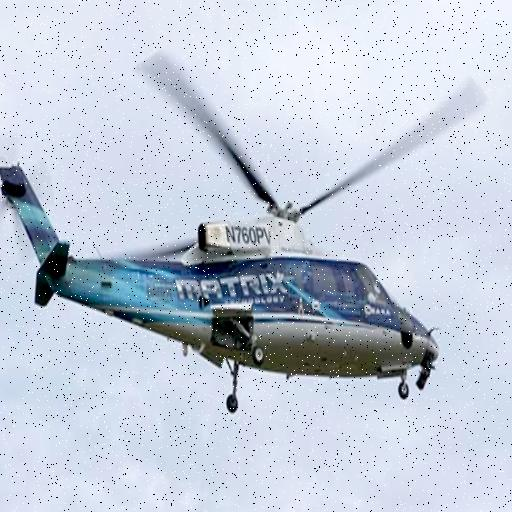helicopter: (1, 52, 487, 413)
